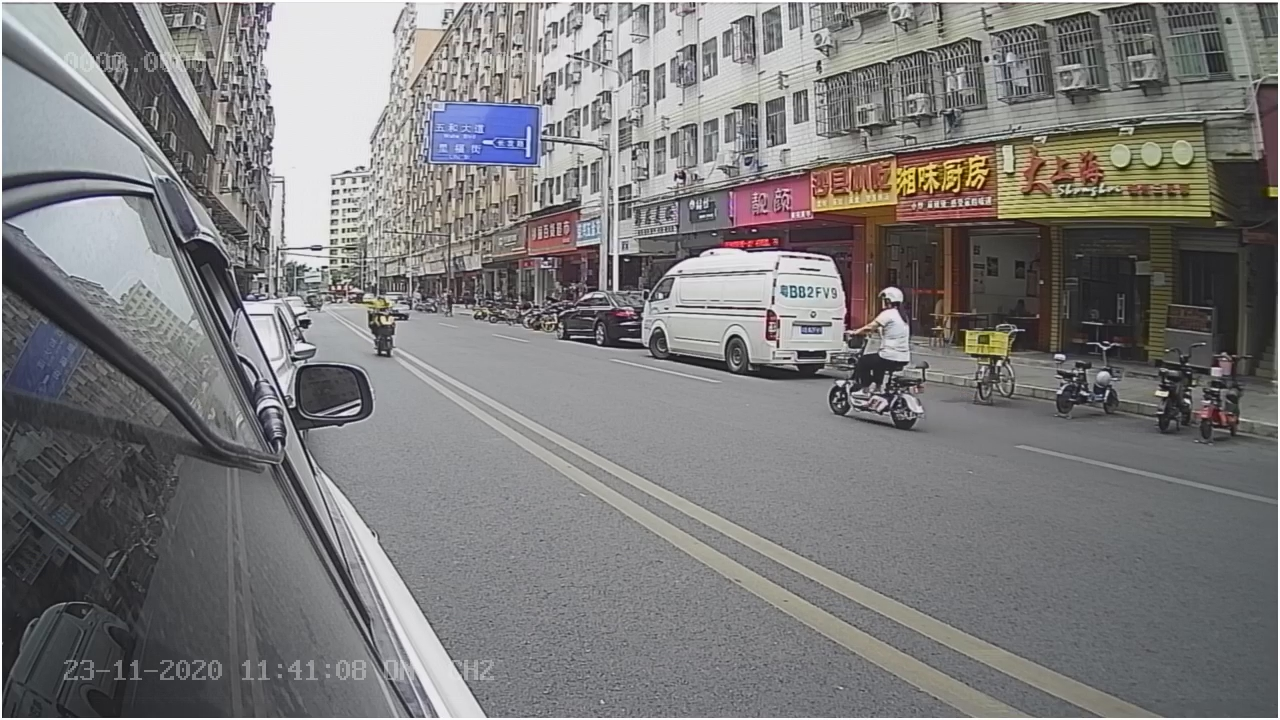person: (869, 281, 912, 362)
